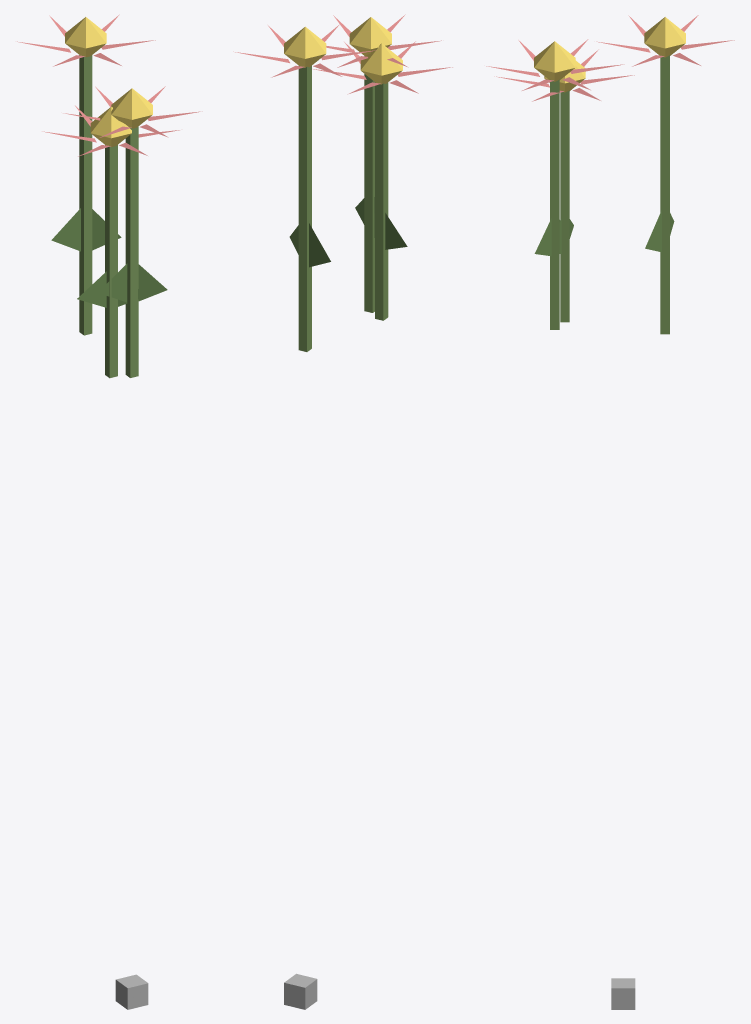
The model's file is rv_flower_red.gltf.
The picture shows the model from 3 angles, left to right: view 1: azimuth 30°, elevation 25°; view 2: azimuth 150°, elevation 25°; view 3: azimuth 270°, elevation 25°; orthographic projection. The views are drawn at different scales.
Visible parts, largest first — view 1: RV_FlowerRed; view 2: RV_FlowerRed; view 3: RV_FlowerRed.
Boxes of the visible parts, left/top/right/bottom form: RV_FlowerRed: left=17, top=14, right=202, bottom=1009; RV_FlowerRed: left=233, top=14, right=452, bottom=1009; RV_FlowerRed: left=486, top=15, right=734, bottom=1009.
Bounding box in the file's own units: 0.1291 × 0.9016 × 0.2124.
